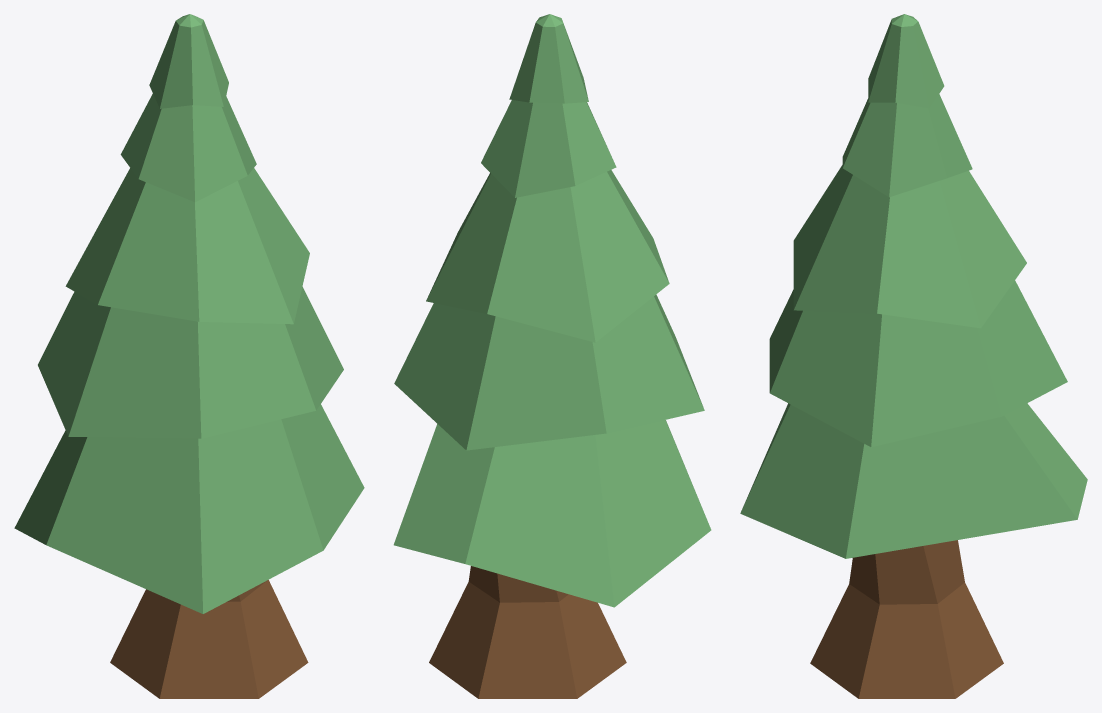
File: cascade_tree.fbx
3 renders of one model, left to right at view 1: azimuth 30°, elevation 25°; view 2: azimuth 150°, elevation 25°; view 3: azimuth 270°, elevation 25°, orthographic. The views are drawn at different scales.
Parts seen in each view (by area): view 1: cascade tree, curved tree trunk; view 2: cascade tree, curved tree trunk; view 3: cascade tree, curved tree trunk.
Part boxes in pixels (box(x1,y1,x2,y2)): cascade tree: box(14, 14, 364, 613); curved tree trunk: box(110, 580, 308, 698); cascade tree: box(393, 14, 711, 607); curved tree trunk: box(429, 566, 626, 698); cascade tree: box(740, 14, 1087, 558); curved tree trunk: box(810, 540, 1003, 698).
Bounding box in the file's own units: 3.59 × 7.54 × 3.71.
